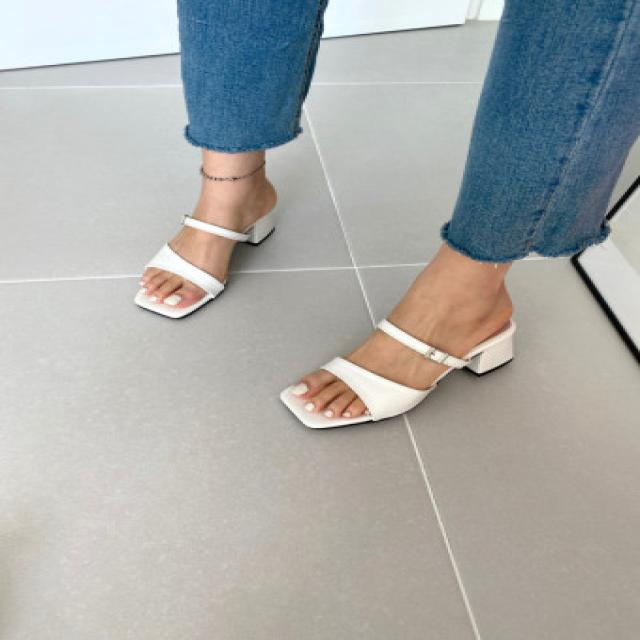no-boots: (292, 262, 578, 490), (90, 172, 358, 336)
